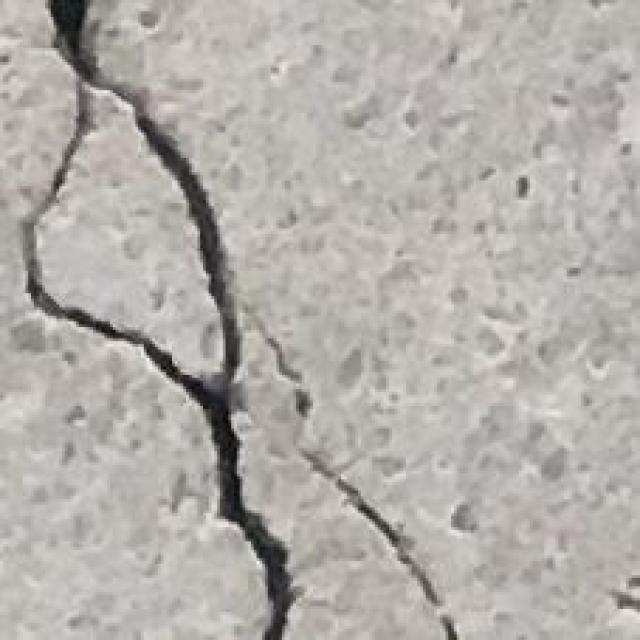diagonal crack: (313, 462, 457, 640)
multi-branched crack: (23, 0, 293, 640), (30, 84, 223, 378)
